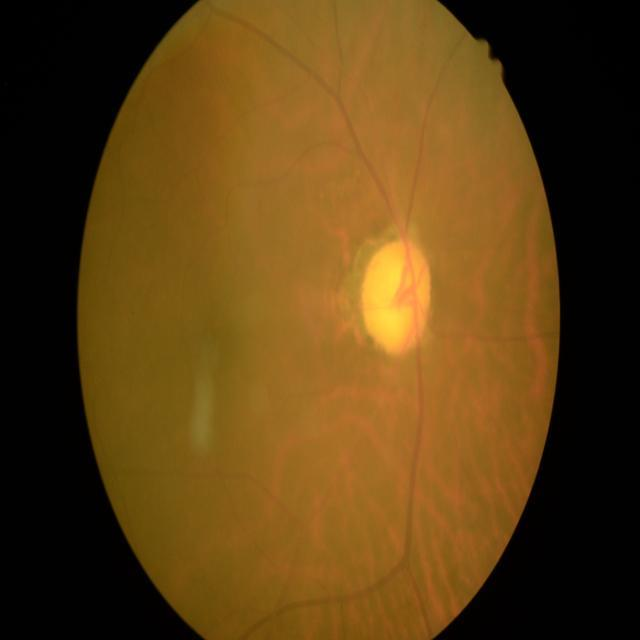cup: (368, 247, 422, 343)
disk: (361, 238, 432, 354)
